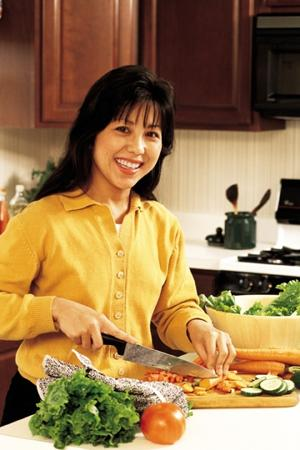person: (2, 64, 237, 426)
